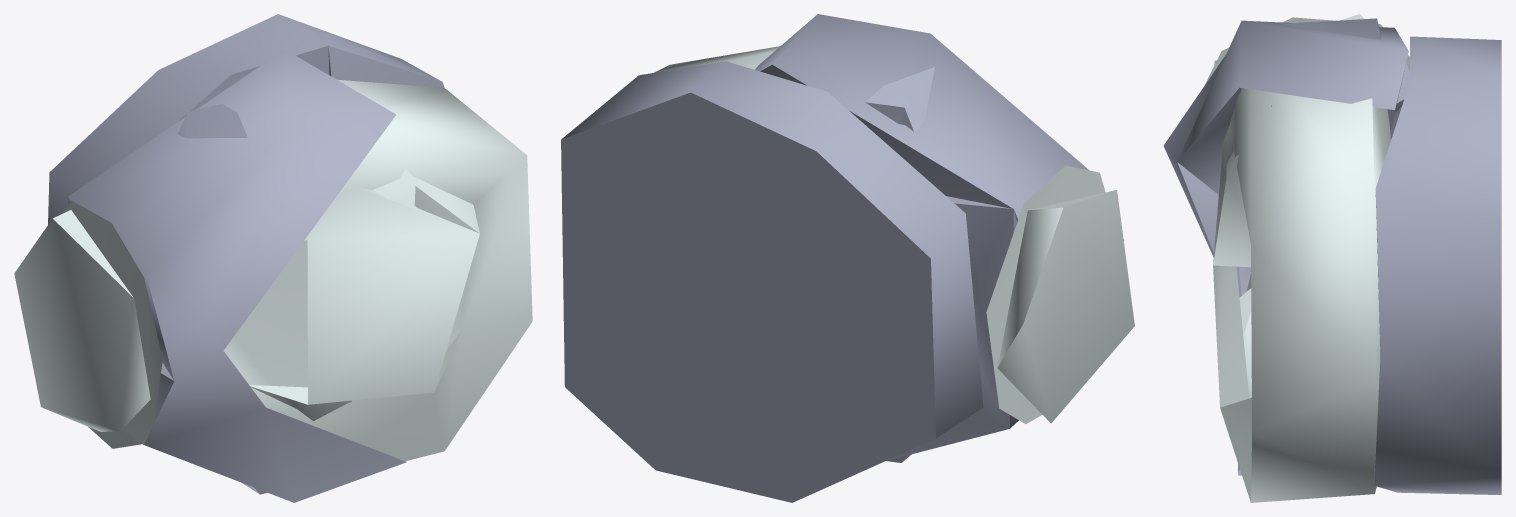
File: hip_dae.dae
3 views of the same model, side by side, from view 1: azimuth 30°, elevation 25°; view 2: azimuth 150°, elevation 25°; view 3: azimuth 270°, elevation 25° (orthographic). The views are drawn at different scales.
Visible parts, largest first — view 1: hip_dae; view 2: hip_dae; view 3: hip_dae.
Part boxes in pixels (box(x1,y1,x2,y2)): hip_dae: box(14, 14, 532, 502); hip_dae: box(561, 14, 1134, 502); hip_dae: box(1163, 14, 1501, 502).
Size of the model in its own units: 0.1181 by 0.0714 by 0.0971.
